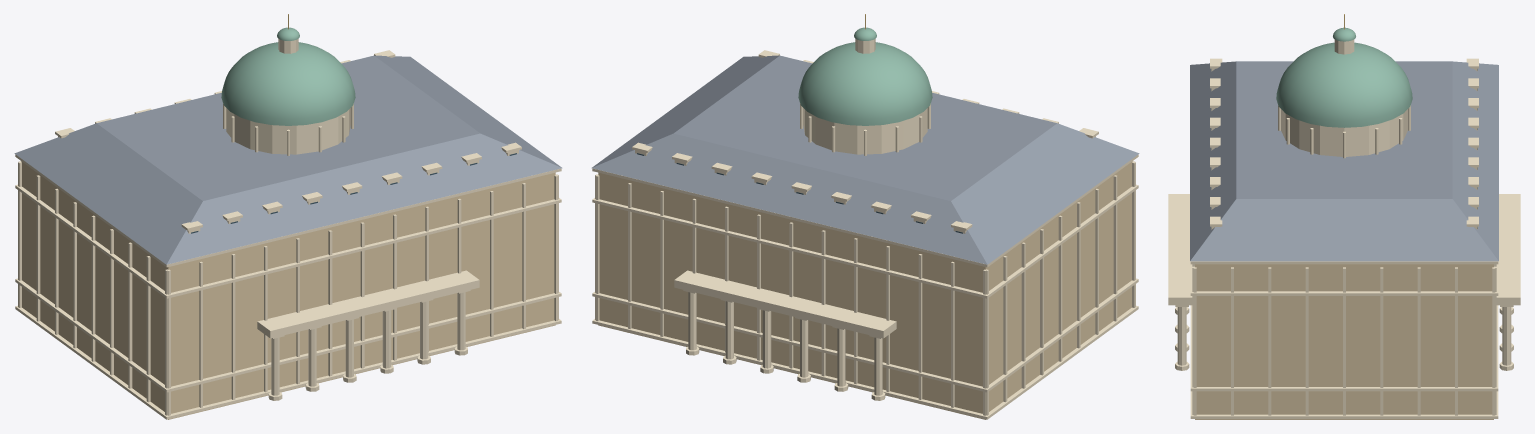
The model's file is hsbc-lod1.glb.
The picture shows the model from 3 angles, left to right: view 1: azimuth 30°, elevation 25°; view 2: azimuth 150°, elevation 25°; view 3: azimuth 270°, elevation 25°; orthographic projection.
Visible parts, largest first — view 1: hsbc_architecture; view 2: hsbc_architecture; view 3: hsbc_architecture.
Boxes of the visible parts, x1,y1,x2,y2 form: hsbc_architecture: (14, 14, 562, 419); hsbc_architecture: (591, 14, 1139, 419); hsbc_architecture: (1168, 14, 1520, 419).
Size of the model in its own units: 35.8 by 26.3 by 27.1.
